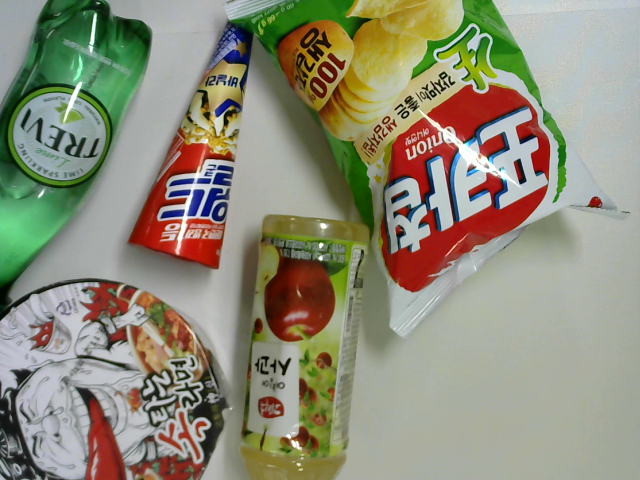HeJangsock: (1, 275, 238, 478)
Morning_Apple_500ml: (232, 209, 377, 480)
Pocachip_Onion: (219, 2, 639, 344)
Treviraim_500ml: (1, 1, 157, 320)
World_Cone_Banila: (125, 1, 262, 268)
